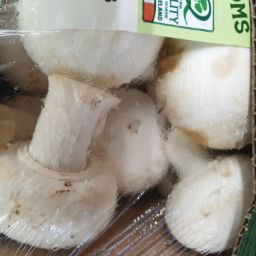Mushrooms: (4, 65, 118, 243), (124, 112, 256, 256), (18, 5, 155, 96), (155, 44, 256, 146), (105, 88, 174, 196)
